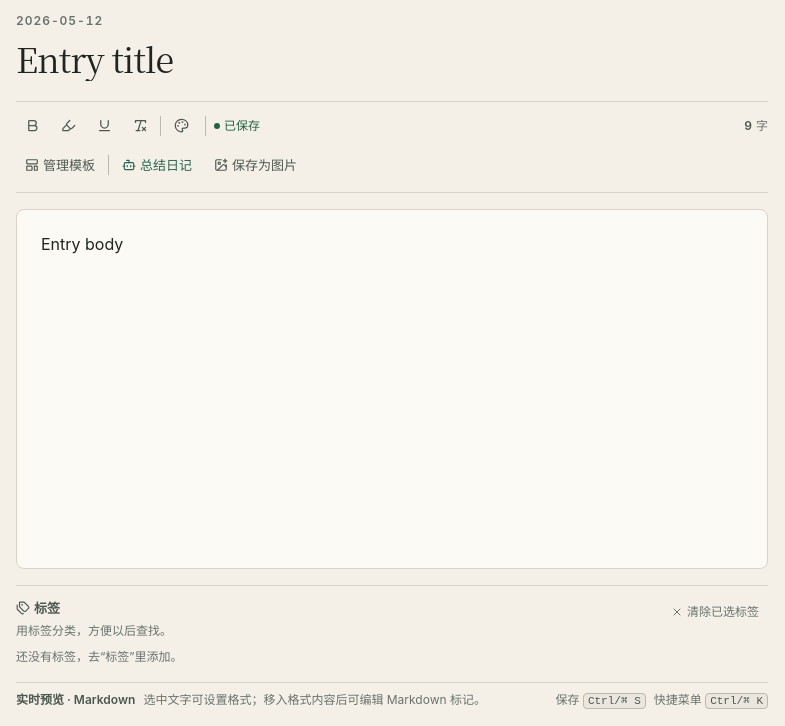
Test: Editor live preview contracts › autosaves canonical markers after two seconds and updates word count
Click the button named "加粗".
click(32, 126)  # box x1=16 y1=110 x2=48 y2=142
Wait 2000 ms
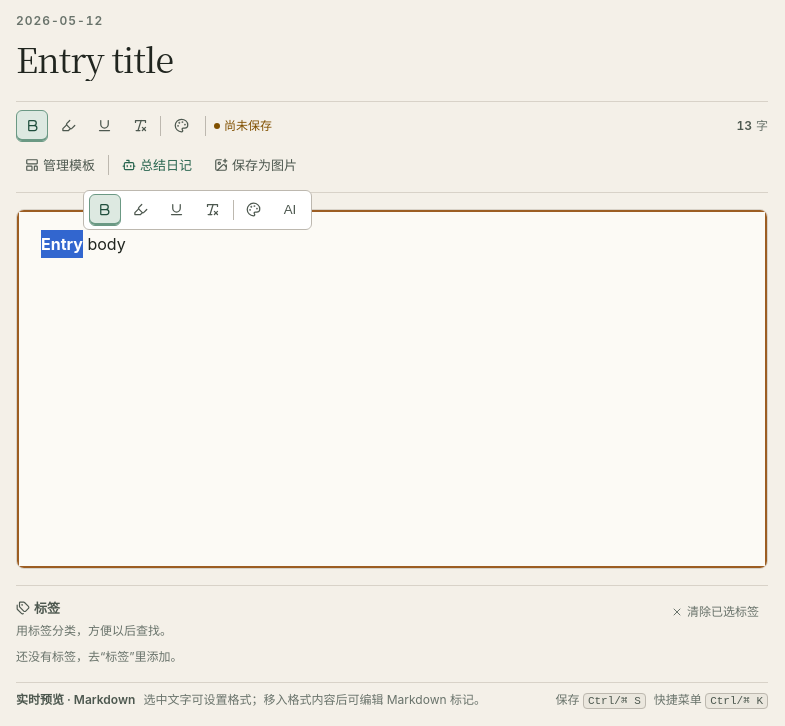
Expected: the element named "日记字数 13" is shown, x1=736 y1=118 x2=768 y2=133
